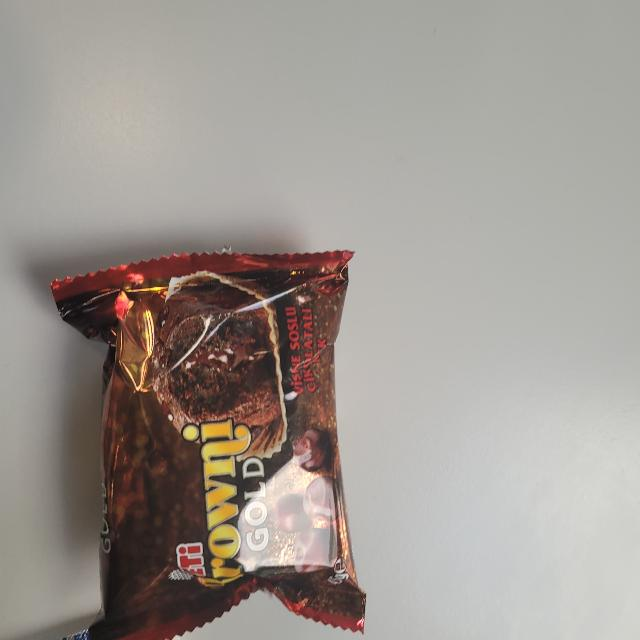Plastik: (42, 243, 380, 638)
